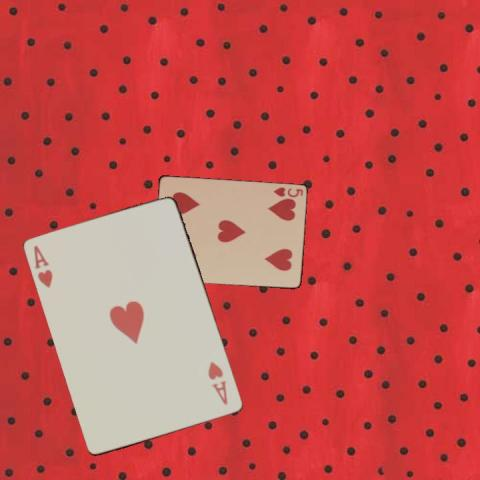5h: (270, 184, 304, 199)
Ah: (205, 358, 230, 407), (30, 242, 55, 289)
